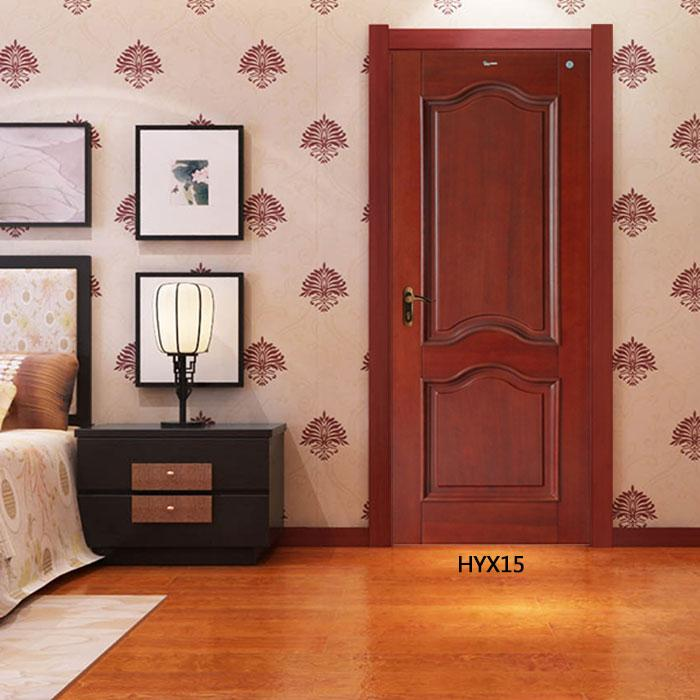door: (381, 46, 595, 539)
